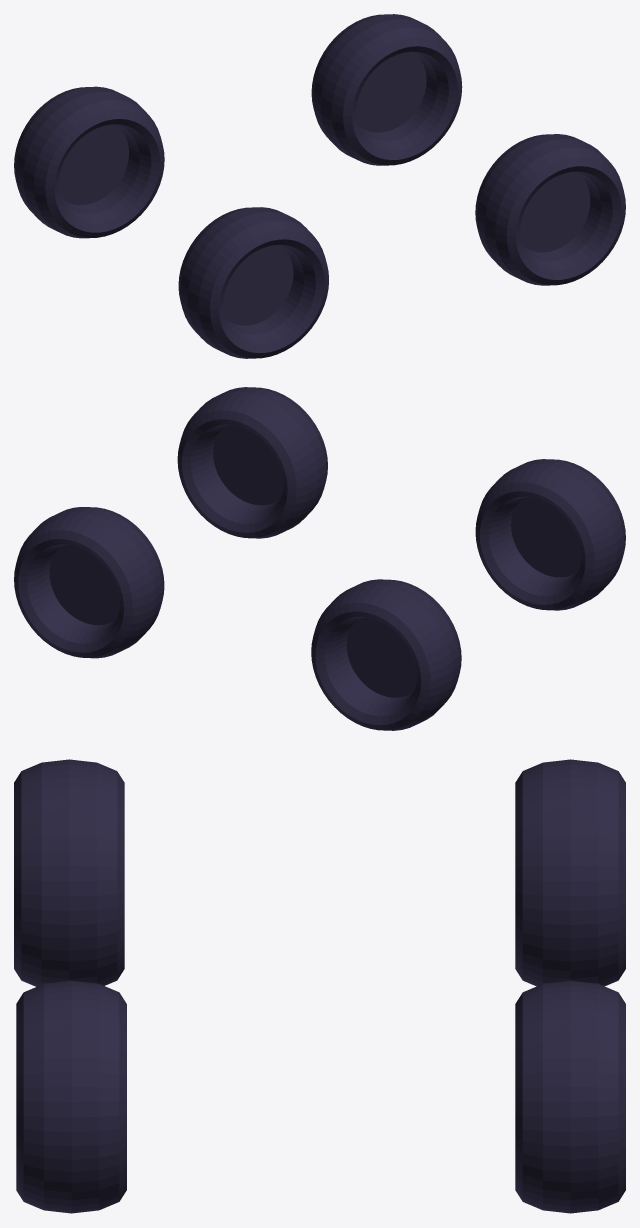
The model's file is rodas.fbx.
3 renders of one model, top to bottom at view 1: azimuth 30°, elevation 25°; view 2: azimuth 150°, elevation 25°; view 3: azimuth 270°, elevation 25°, orthographic. The views are drawn at different scales.
Visible parts, largest first — view 1: Torus.004, Torus.002, Torus.001, Torus.003; view 2: Torus.001, Torus.002, Torus.004, Torus.003; view 3: Torus.004, Torus.003, Torus.001, Torus.002.
Part boxes in pixels (left/top/right/bottom): Torus.004: left=475, top=134, right=625, bottom=285; Torus.002: left=14, top=86, right=164, bottom=238; Torus.001: left=178, top=207, right=328, bottom=358; Torus.003: left=311, top=14, right=462, bottom=165; Torus.001: left=475, top=459, right=625, bottom=610; Torus.002: left=311, top=579, right=461, bottom=730; Torus.004: left=177, top=387, right=327, bottom=538; Torus.003: left=14, top=507, right=164, bottom=658; Torus.004: left=16, top=980, right=126, bottom=1213; Torus.003: left=515, top=980, right=625, bottom=1213; Torus.001: left=14, top=759, right=124, bottom=986; Torus.002: left=515, top=759, right=625, bottom=986.
Bounding box in the file's own units: 396 × 122 × 320.
